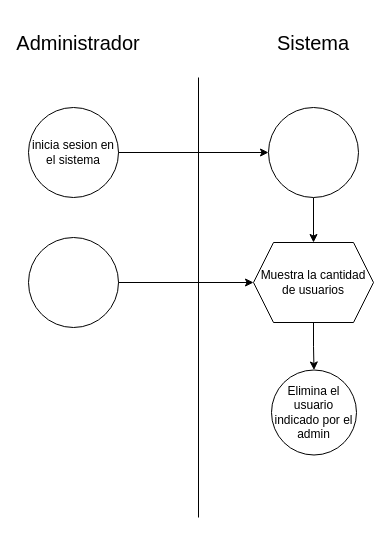
Some shapes in this 391 by 536 pixel diagram are drawn without their labels. Each missing label, with the box of its shape:
Entra al sistema: (268, 106, 358, 198)
Entra en la seccion de eliminar usuario: (28, 236, 118, 328)
